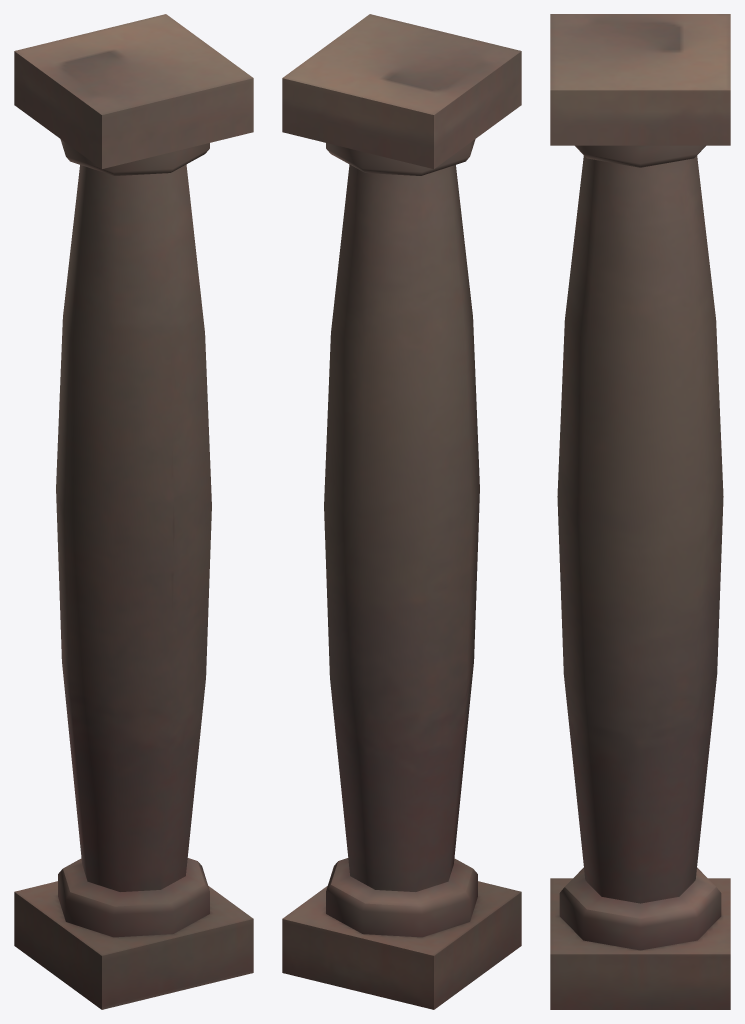
The model's file is SM_Pilar_Main.fbx.
The picture shows the model from 3 angles, left to right: view 1: azimuth 30°, elevation 25°; view 2: azimuth 150°, elevation 25°; view 3: azimuth 270°, elevation 25°; orthographic projection. The views are drawn at different scales.
Visible parts, largest first — view 1: SM_Pilar_Main; view 2: SM_Pilar_Main; view 3: SM_Pilar_Main.
Boxes of the visible parts, <box> form: SM_Pilar_Main: <box>14,14,253,1009</box>; SM_Pilar_Main: <box>282,14,521,1009</box>; SM_Pilar_Main: <box>550,14,730,1009</box>.
Bounding box in the file's own units: 9.01 × 50.74 × 9.01.
1 material, 1 textured.
